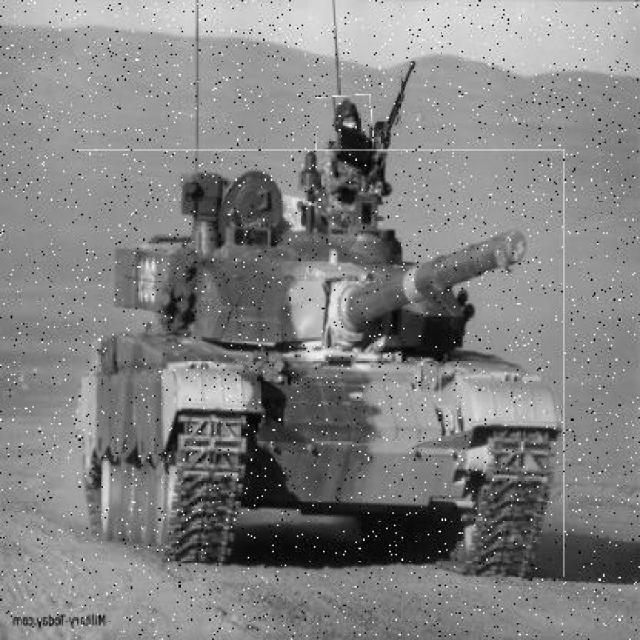Person: (317, 97, 380, 234)
Tank: (75, 151, 566, 580)
